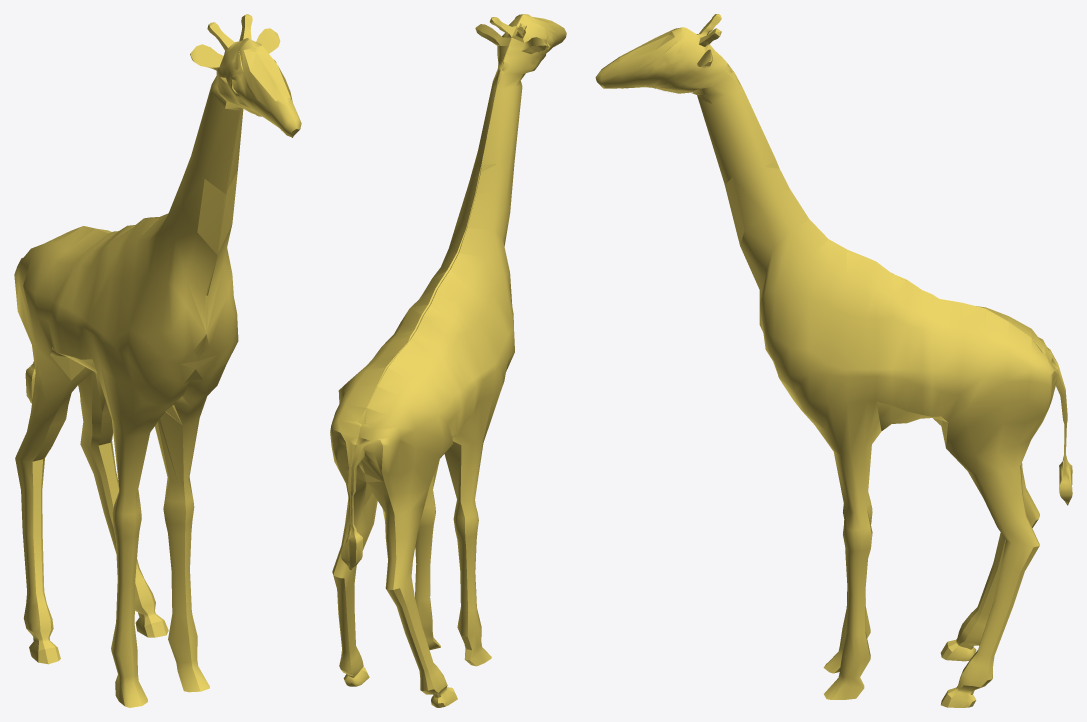
Rendered from giraffeC.gltf.
3 renders of one model, left to right at view 1: azimuth 30°, elevation 25°; view 2: azimuth 150°, elevation 25°; view 3: azimuth 270°, elevation 25°, orthographic. The views are drawn at different scales.
Parts seen in each view (by area): view 1: Box001; view 2: Box001; view 3: Box001.
Part boxes in pixels (left/top/right/bottom): Box001: left=14, top=14, right=301, bottom=707; Box001: left=330, top=14, right=566, bottom=707; Box001: left=595, top=14, right=1072, bottom=707.
Size of the model in its own units: 28.26 by 150 by 98.05.
